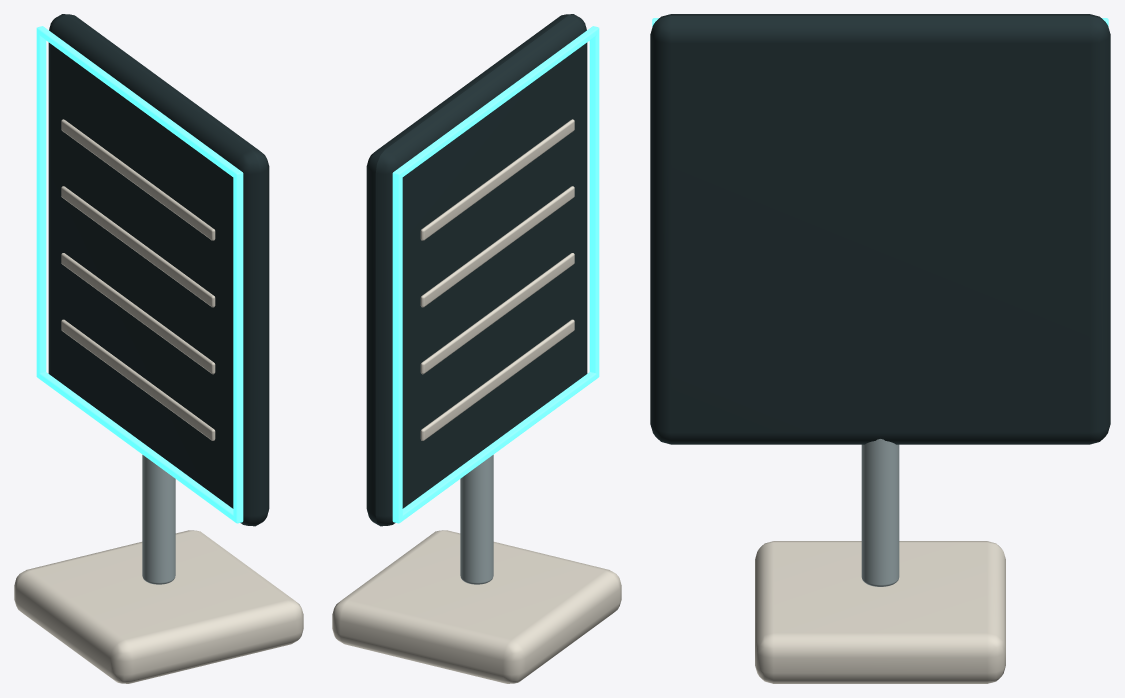
Rendered from relay-reflector.glb.
3 views of the same model, side by side, from view 1: azimuth 30°, elevation 25°; view 2: azimuth 150°, elevation 25°; view 3: azimuth 270°, elevation 25° (orthographic). The views are drawn at different scales.
Visible parts, largest first — view 1: Rebound plate, Foot, Support, Luminous edge, Luminous edge.001, Luminous edge.003, Luminous edge.002, Bounce stripes, Bounce stripes.003, Bounce stripes.001, Bounce stripes.002; view 2: Rebound plate, Foot, Support, Luminous edge.001, Luminous edge, Luminous edge.003, Luminous edge.002, Bounce stripes, Bounce stripes.003, Bounce stripes.001, Bounce stripes.002; view 3: Rebound plate, Foot, Support.
Part boxes in pixels (x1,y1,x2,y2): Rebound plate: (48,14,269,526); Foot: (14,530,303,683); Support: (142,455,175,584); Luminous edge: (233,170,243,523); Luminous edge.001: (36,26,46,377); Luminous edge.003: (38,27,240,177); Luminous edge.002: (38,372,234,521); Bounce stripes: (61,319,215,440); Bounce stripes.003: (61,119,215,240); Bounce stripes.001: (61,253,215,374); Bounce stripes.002: (61,186,215,307); Rebound plate: (366,14,587,526); Foot: (332,530,621,683); Support: (460,455,493,584); Luminous edge.001: (392,171,402,523); Luminous edge: (589,26,599,377); Luminous edge.003: (395,27,597,177); Luminous edge.002: (401,372,597,521); Bounce stripes: (420,319,574,440); Bounce stripes.003: (420,119,574,240); Bounce stripes.001: (420,253,574,374); Bounce stripes.002: (420,186,574,307); Rebound plate: (650,14,1110,444); Foot: (755,541,1005,683); Support: (861,439,899,586).
Size of the model in its own units: 1.2 by 3.28 by 2.2.
